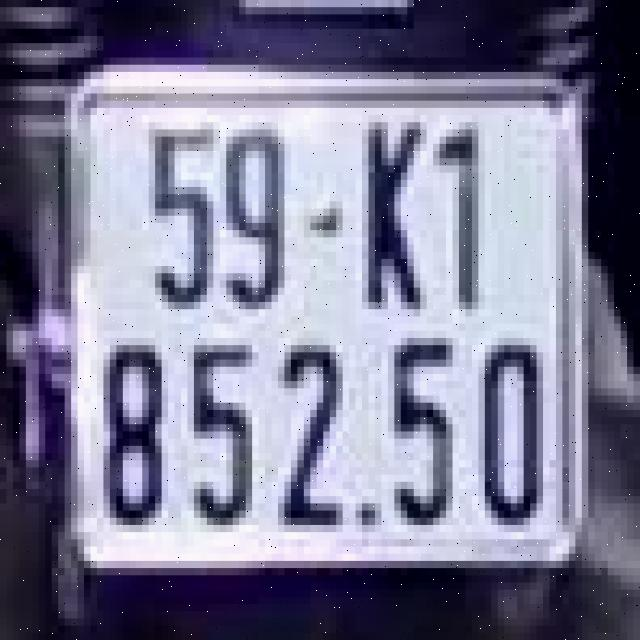0: (475, 324, 559, 525)
1: (430, 108, 501, 331)
2: (272, 331, 356, 539)
5: (139, 111, 223, 320), (181, 324, 265, 532), (378, 334, 462, 528)
8: (88, 334, 184, 536)
9: (220, 119, 304, 320)
K: (349, 94, 427, 324)
